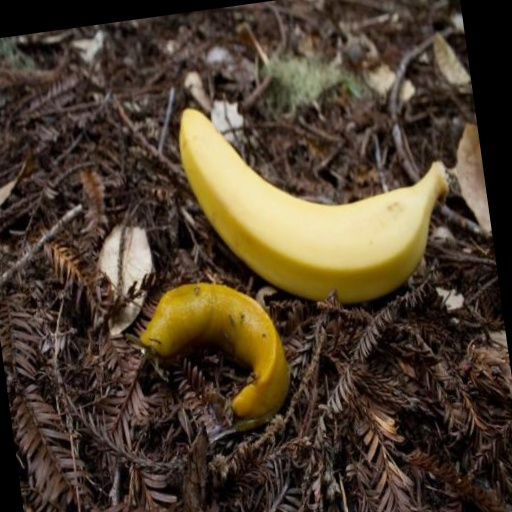fruit: (179, 110, 448, 303), (140, 283, 290, 431)
